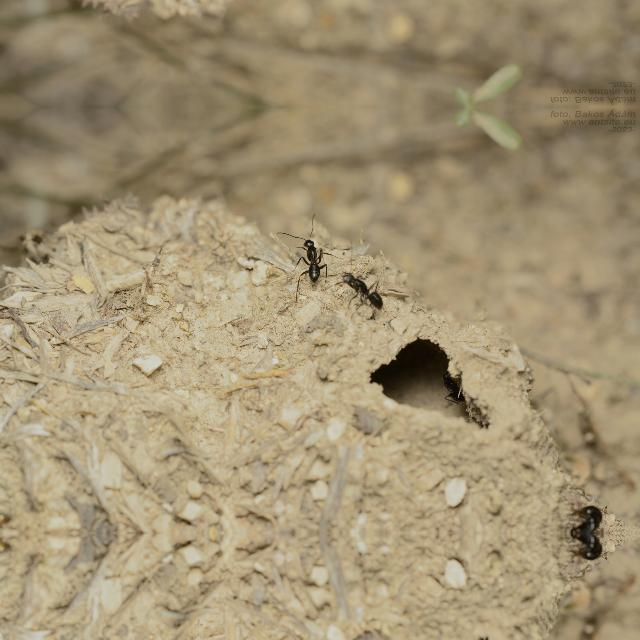Camponotus: (282, 224, 336, 286), (334, 267, 394, 313), (556, 498, 616, 532), (556, 533, 616, 567), (434, 367, 468, 405)
